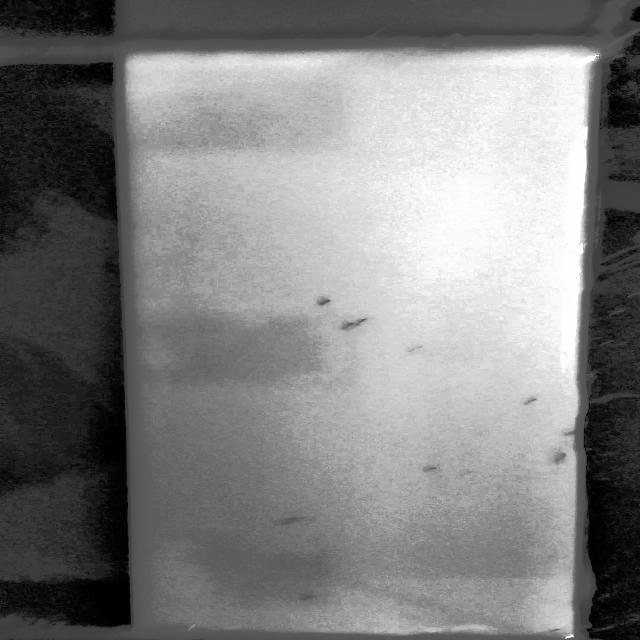shrimp: (517, 394, 544, 409), (294, 591, 320, 604), (549, 452, 573, 466), (560, 428, 584, 442), (352, 317, 372, 333), (402, 343, 429, 353), (418, 463, 443, 473), (334, 319, 354, 329), (284, 514, 302, 524), (316, 298, 335, 306)
